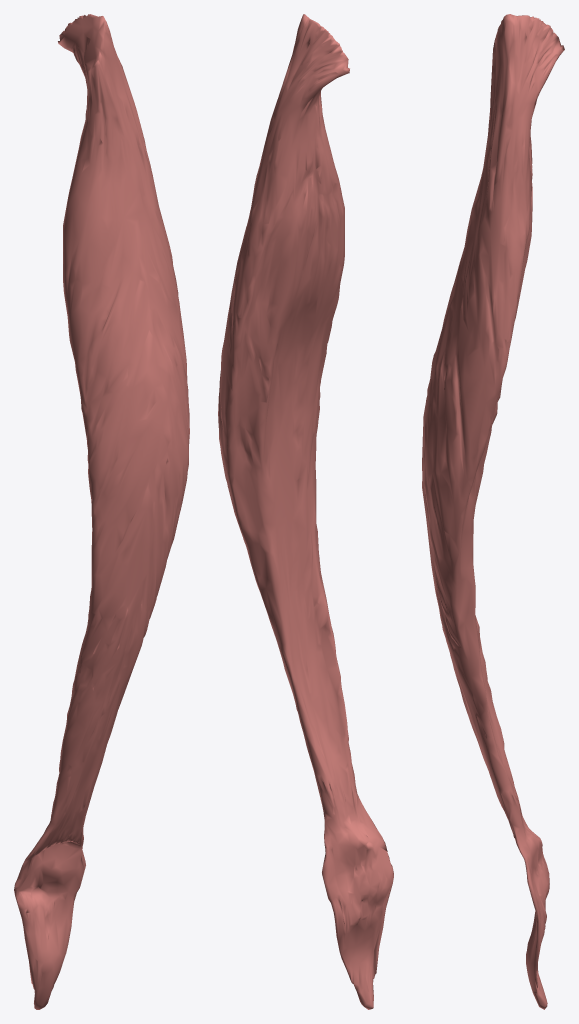
The picture shows the model from 3 angles, left to right: view 1: azimuth 30°, elevation 25°; view 2: azimuth 210°, elevation 25°; view 3: azimuth 270°, elevation 25°; orthographic projection. The views are drawn at different scales.
Parts seen in each view (by area): view 1: ZA_1ad68c891597b4cc; view 2: ZA_1ad68c891597b4cc; view 3: ZA_1ad68c891597b4cc.
Part boxes in pixels (x1,y1,x2,y2): ZA_1ad68c891597b4cc: [14, 14, 189, 1009]; ZA_1ad68c891597b4cc: [218, 14, 393, 1009]; ZA_1ad68c891597b4cc: [422, 14, 564, 1009].
Bounding box in the file's own units: 0.0816 × 0.5453 × 0.0693.
